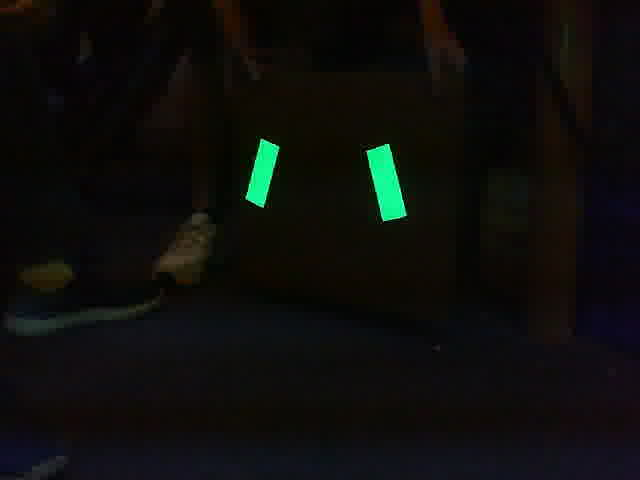target: (244, 139, 409, 224)
